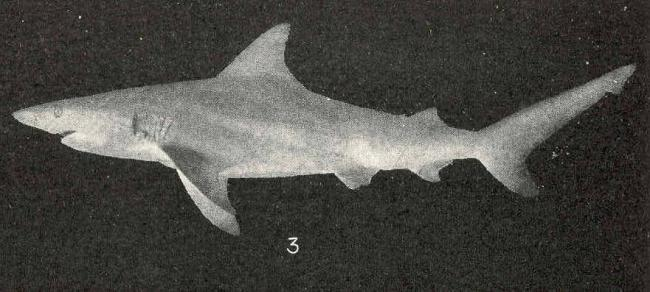fish: (13, 23, 638, 235)
